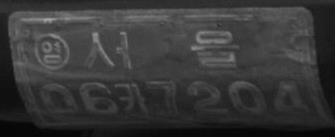0: (39, 80, 79, 116), (230, 80, 268, 117)
2: (186, 79, 229, 117)
4: (271, 79, 311, 119)
6: (80, 80, 118, 117)
7: (150, 79, 182, 117)
서울_D: (81, 29, 239, 70)
영: (34, 32, 70, 72)
카: (118, 81, 149, 119)
